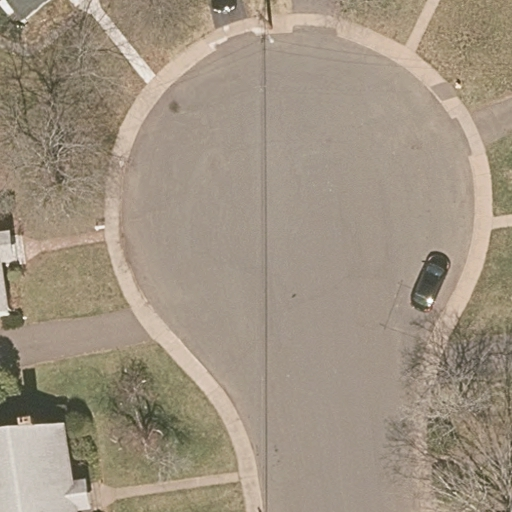DT: (250, 1, 277, 45)
